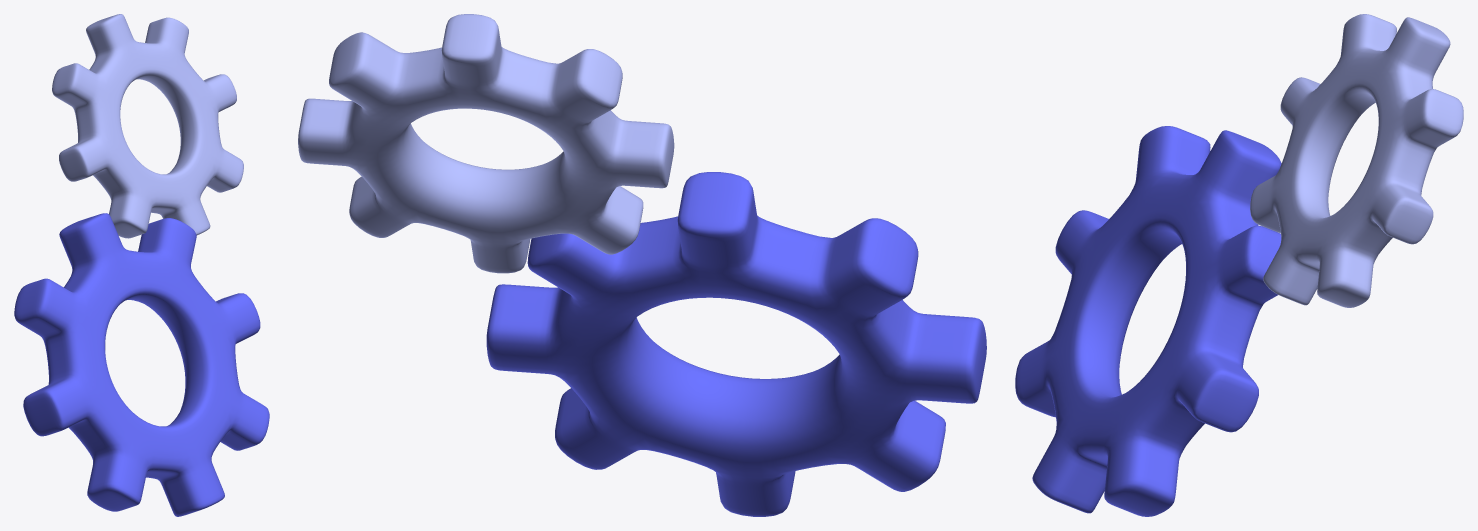
Rendered from gear-loading-animated-3d-icon-153825509543.glb.
The picture shows the model from 3 angles, left to right: view 1: azimuth 30°, elevation 25°; view 2: azimuth 150°, elevation 25°; view 3: azimuth 270°, elevation 25°; orthographic projection. The views are drawn at different scales.
Visible parts, largest first — view 1: Circle, Circle.001; view 2: Circle, Circle.001; view 3: Circle, Circle.001.
Boxes of the visible parts, x1,y1,x2,y2 form: Circle: (14,213,269,516); Circle.001: (52,14,243,238); Circle: (486,172,986,516); Circle.001: (298,14,674,273); Circle: (1015,126,1281,516); Circle.001: (1250,14,1463,307).
Bounding box in the file's own units: 1.58 × 1.88 × 1.47.
